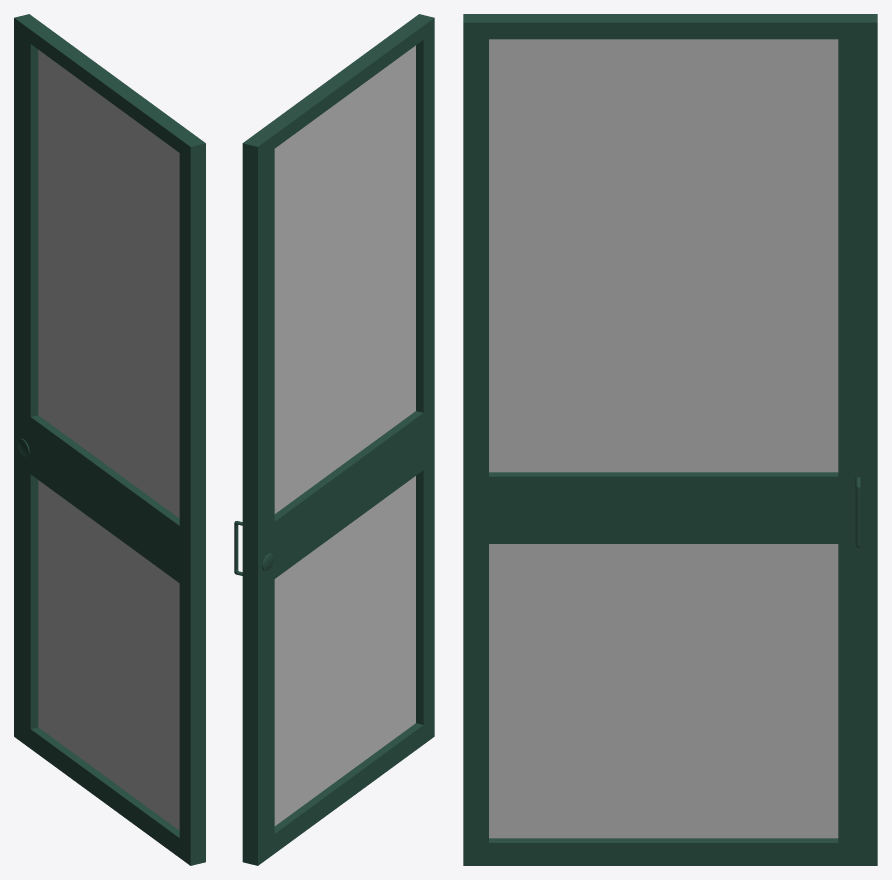
Rendered from SW_corridor__R_lobby_Ovi_073.FBX.
3 renders of one model, left to right at view 1: azimuth 30°, elevation 25°; view 2: azimuth 150°, elevation 25°; view 3: azimuth 270°, elevation 25°, orthographic. The views are drawn at different scales.
Parts seen in each view (by area): view 1: SW_corridor__R_lobby_Ovi_073; view 2: SW_corridor__R_lobby_Ovi_073; view 3: SW_corridor__R_lobby_Ovi_073.
Part boxes in pixels (x1=…): SW_corridor__R_lobby_Ovi_073: x1=14, y1=14, x2=205, y2=865; SW_corridor__R_lobby_Ovi_073: x1=234, y1=14, x2=434, y2=865; SW_corridor__R_lobby_Ovi_073: x1=463, y1=14, x2=877, y2=865.
Size of the model in its own units: 11.6 by 110 by 246.
